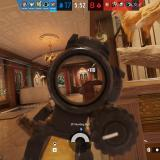Character: (78, 89, 83, 95)
